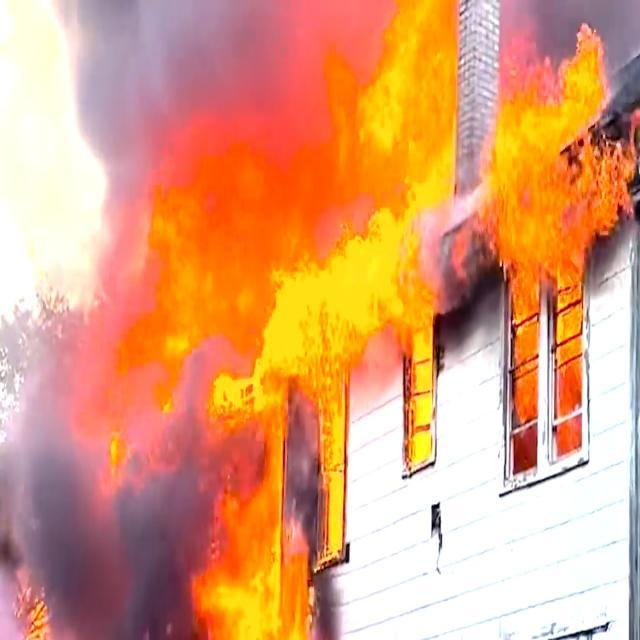Fire: (498, 72, 594, 472), (284, 267, 356, 547), (204, 345, 271, 640), (368, 230, 440, 454), (378, 2, 452, 208)
Smoke: (45, 359, 171, 640), (93, 16, 280, 150)
